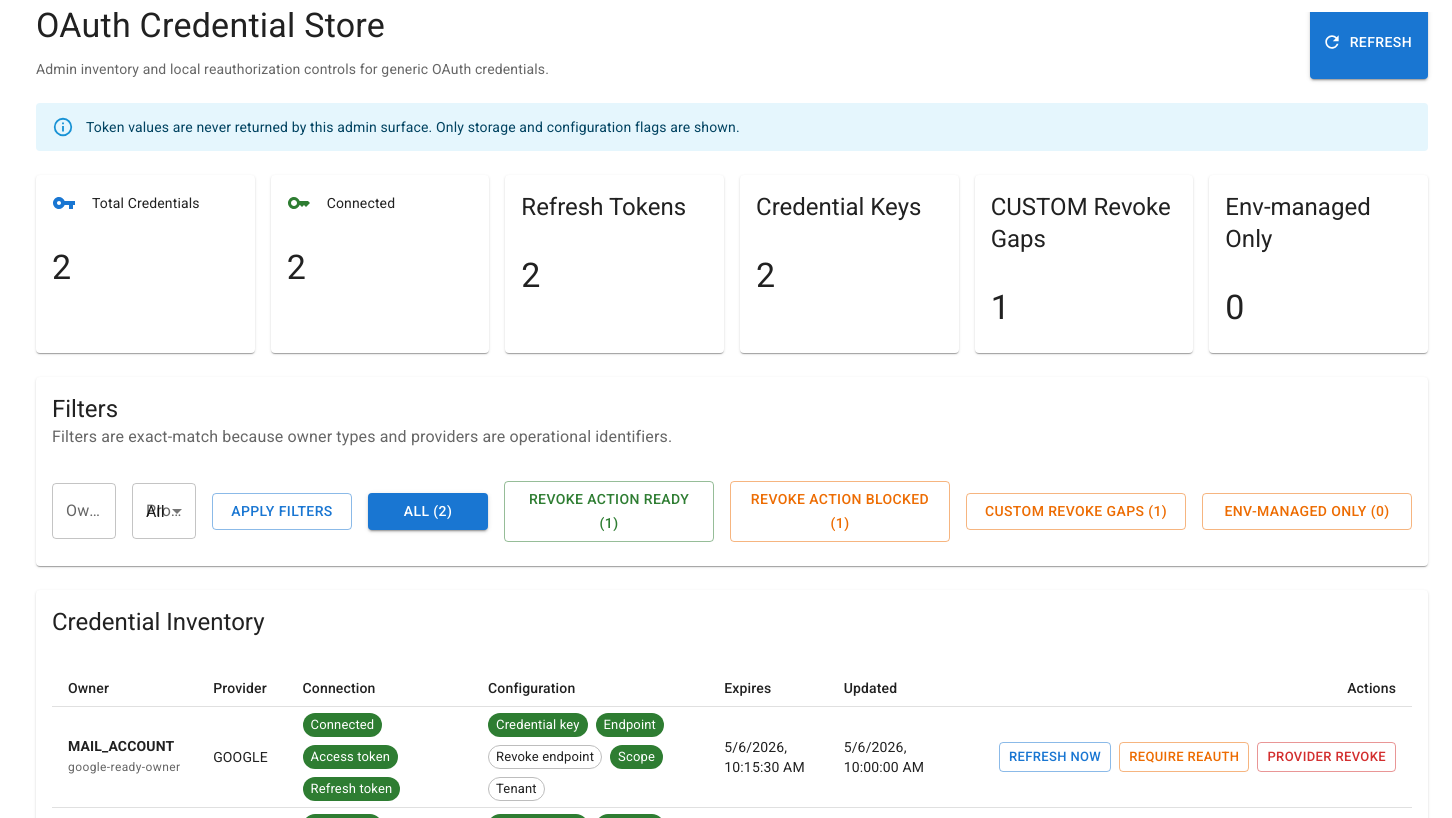
Test: filters to revoke/local-clear ready credentials
This screenshot has width=1452, height=818.
(page scrolled)
Expected: the text "google-ready-owner" is shown, [68,760,180,774]
What coordinates should you click on to do the following:
click the button "Revoke action ready (1)"
I would click on:
 (609, 511)
Its box is [504,481,714,542].
(page scrolled)
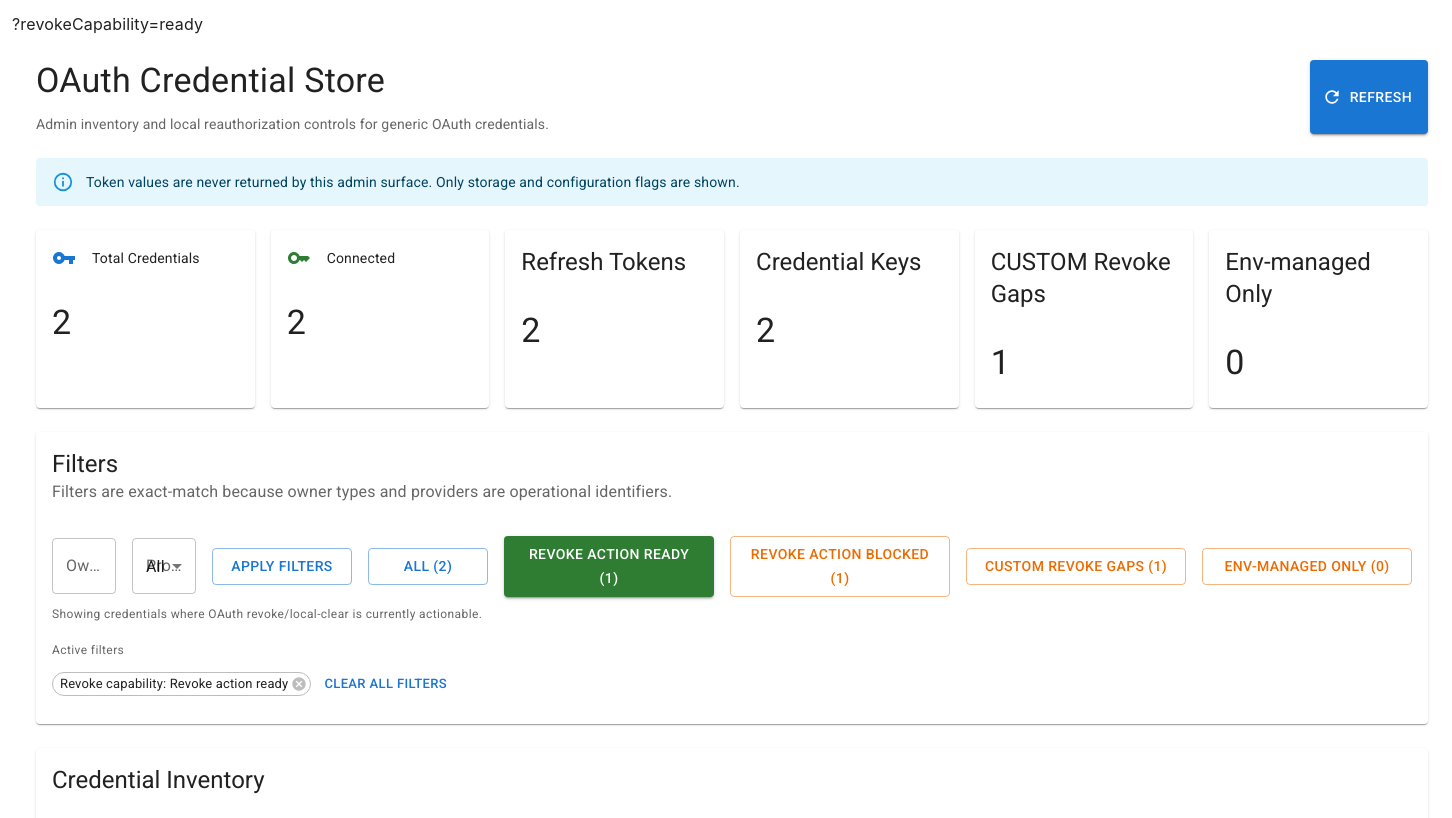
Expected: the text "Showing credentials where OAuth revoke/local-clear is currently actionable." is shown, [52,607,482,621]
Expected: the text with test id "location-search" reads "?revokeCapability=ready", [12,14,203,34]
